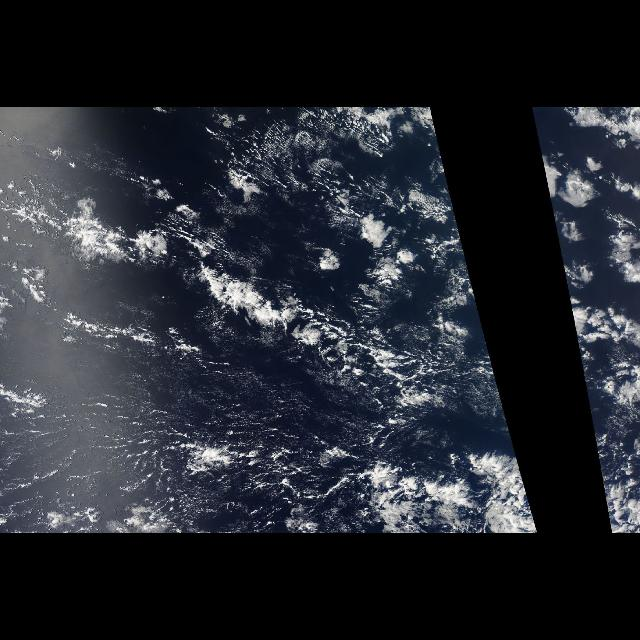Fish: (5, 176, 488, 410)
Flower: (532, 108, 640, 526), (513, 439, 539, 527)
Gravel: (197, 140, 477, 406)
